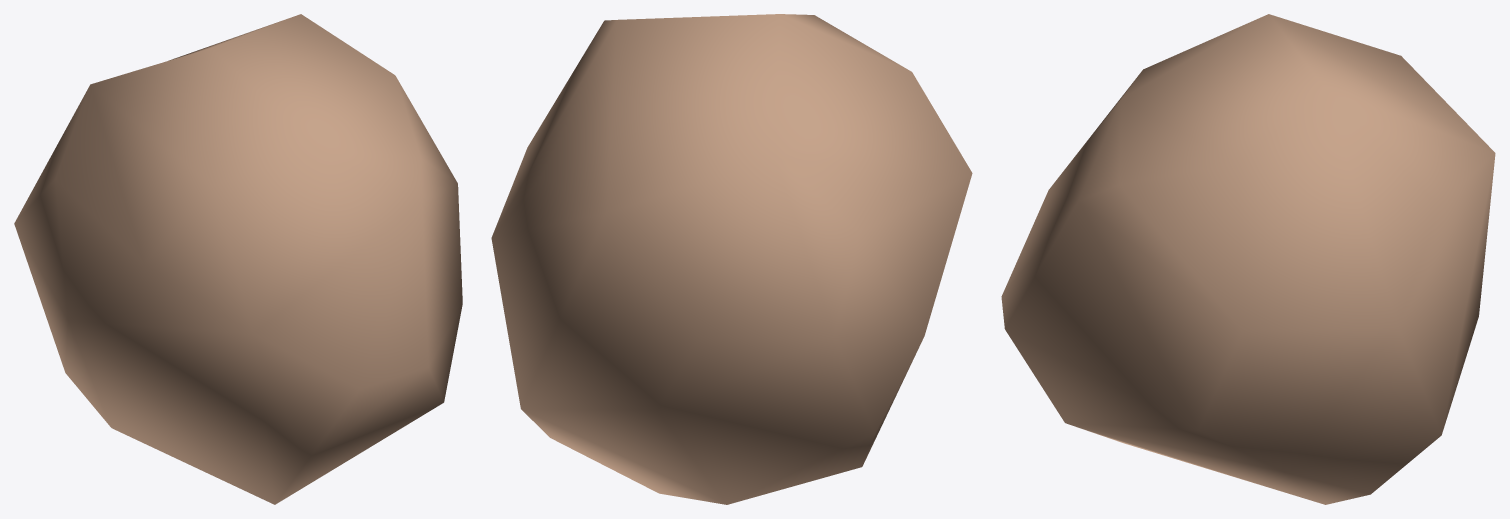
Rendered from ZMOBA_Rock_B_5.FBX.
3 views of the same model, side by side, from view 1: azimuth 30°, elevation 25°; view 2: azimuth 150°, elevation 25°; view 3: azimuth 270°, elevation 25° (orthographic). The views are drawn at different scales.
Parts seen in each view (by area): view 1: ZMOBA_Rock_B_5; view 2: ZMOBA_Rock_B_5; view 3: ZMOBA_Rock_B_5.
Part boxes in pixels (x1,y1,x2,y2): ZMOBA_Rock_B_5: (14, 14, 462, 504); ZMOBA_Rock_B_5: (491, 14, 972, 504); ZMOBA_Rock_B_5: (1001, 14, 1495, 504).
Size of the model in its own units: 165 by 181 by 180.
